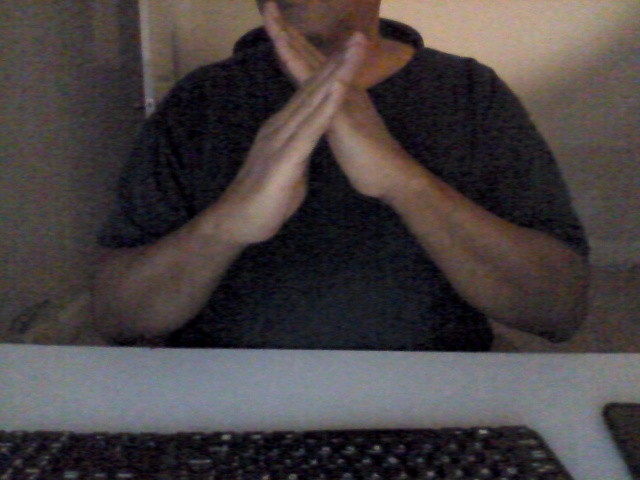quiet: (232, 1, 389, 243)
